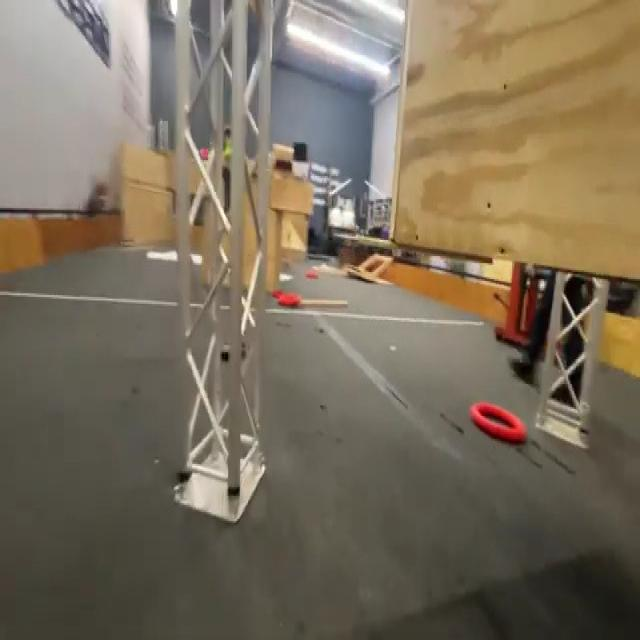note: (468, 400, 527, 446), (276, 291, 303, 309)
